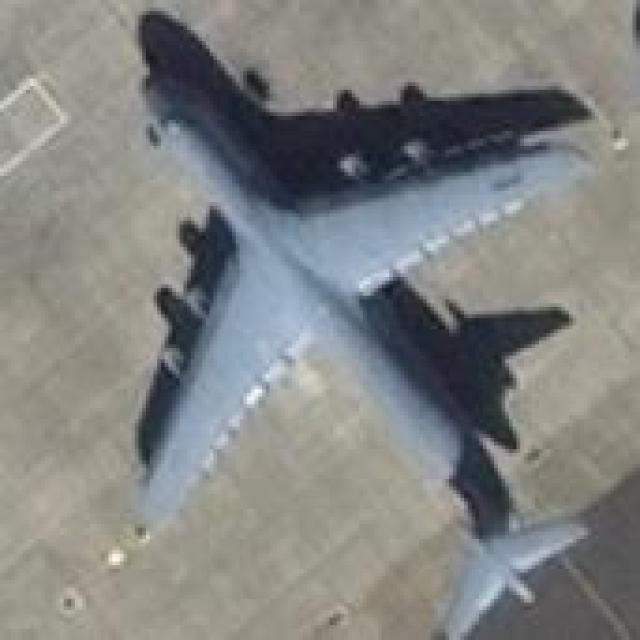C-5_TopDown: (116, 4, 636, 636)
